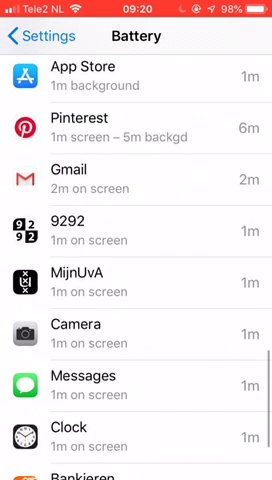app: (8, 60, 265, 94), (10, 109, 267, 143), (10, 162, 267, 196), (9, 212, 266, 246), (11, 265, 268, 299), (9, 316, 266, 350), (9, 371, 266, 405), (8, 419, 265, 453), (6, 417, 263, 451)
